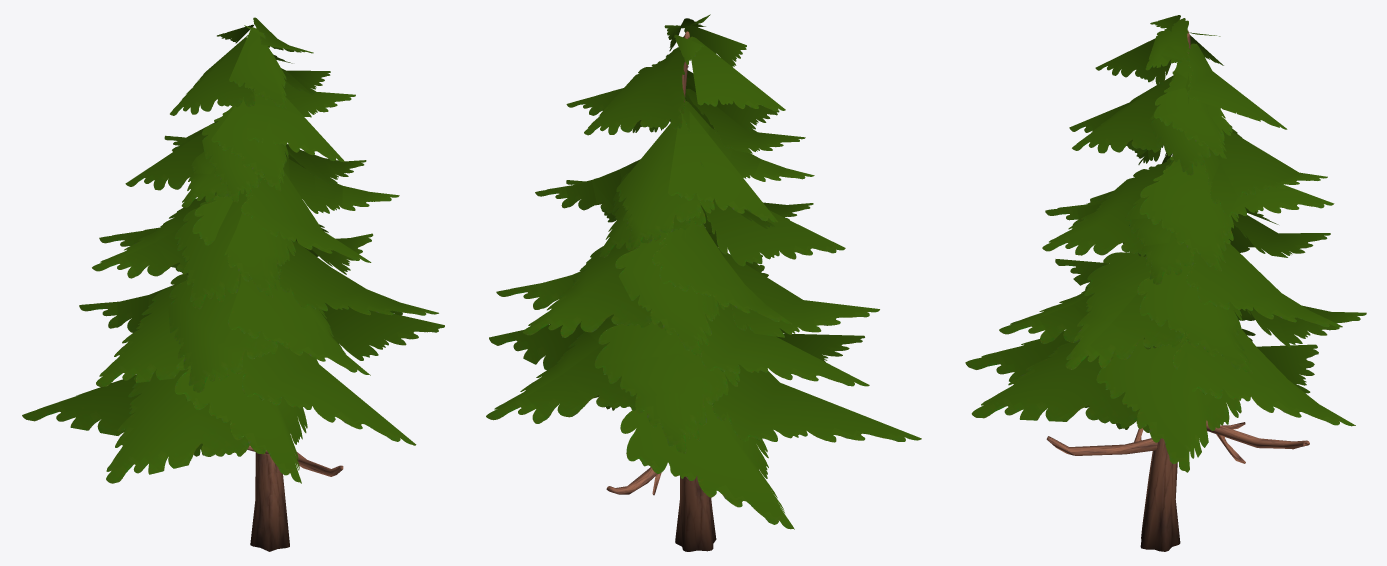
Rendered from tree-life-2-sapling.glb.
3 renders of one model, left to right at view 1: azimuth 30°, elevation 25°; view 2: azimuth 150°, elevation 25°; view 3: azimuth 270°, elevation 25°, orthographic. The views are drawn at different scales.
Parts seen in each view (by area): view 1: Pine_2; view 2: Pine_2; view 3: Pine_2.
Boxes of the visible parts, x1,y1,x2,y2 form: Pine_2: [22, 17, 444, 551]; Pine_2: [486, 14, 921, 551]; Pine_2: [965, 15, 1366, 551].
Bounding box in the file's own units: 0.5048 × 0.6431 × 0.4601.
Materials: 2 (2 with a texture image).
